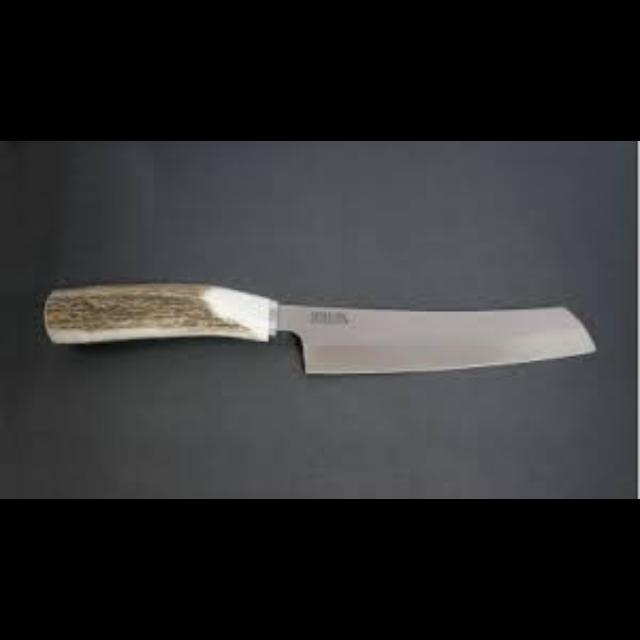Knife: (43, 280, 595, 376)
